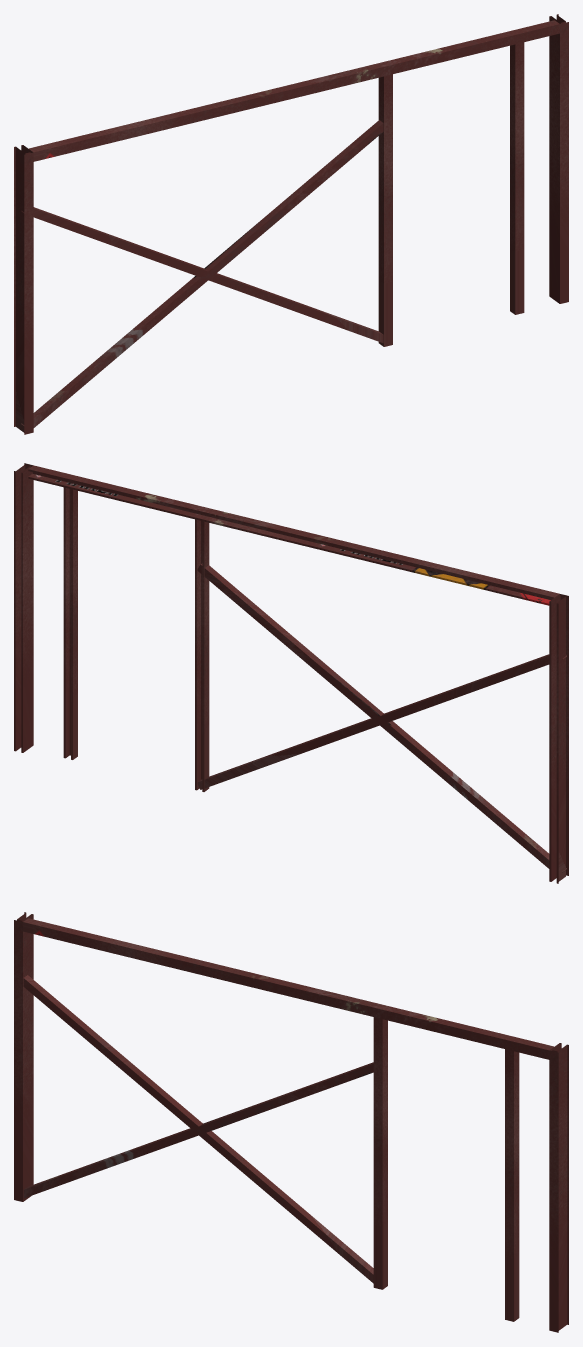
File: CS_formwork_system_03.FBX
3 views of the same model, one above another, from view 1: azimuth 30°, elevation 25°; view 2: azimuth 150°, elevation 25°; view 3: azimuth 330°, elevation 25° (orthographic).
Parts seen in each view (by area): view 1: SM_formwork_system_03; view 2: SM_formwork_system_03; view 3: SM_formwork_system_03.
Part boxes in pixels (x1,y1,x2,y2): SM_formwork_system_03: (14, 14, 568, 434); SM_formwork_system_03: (14, 463, 568, 883); SM_formwork_system_03: (14, 912, 568, 1332).
Size of the model in its own units: 600 by 20 by 295.
